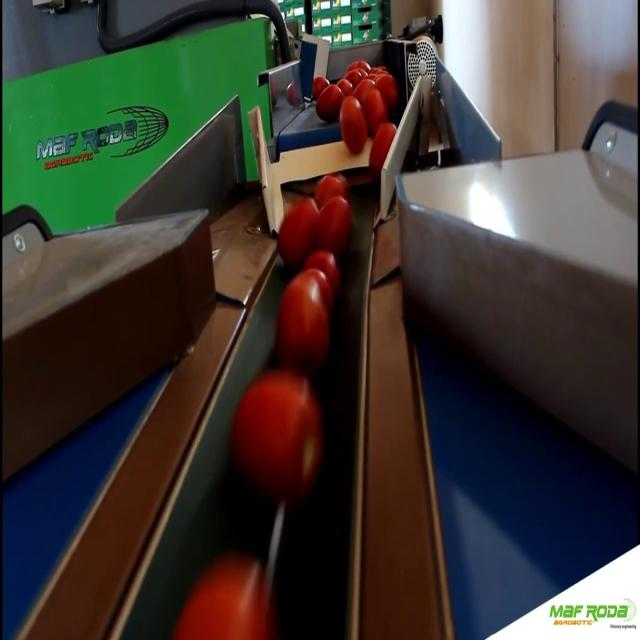Tomato: (231, 372, 321, 499), (174, 569, 268, 640), (274, 280, 331, 360), (275, 197, 317, 256), (313, 195, 353, 248), (339, 95, 367, 160), (366, 124, 397, 175), (358, 81, 390, 122), (305, 252, 340, 282), (315, 86, 344, 121), (374, 72, 397, 102), (311, 76, 329, 98), (338, 76, 352, 92)
